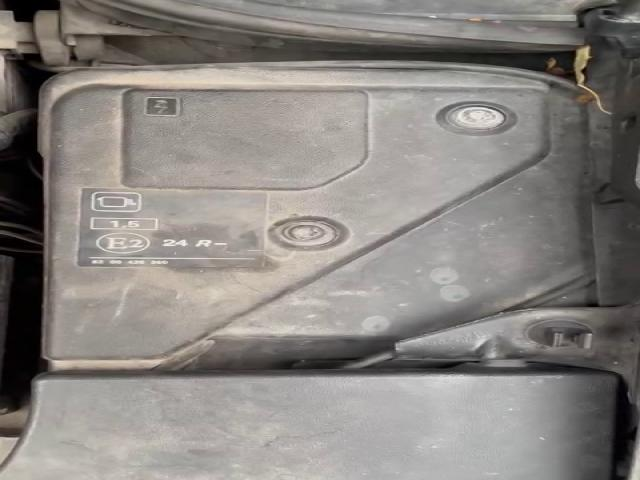fuse_box: (47, 88, 565, 364)
